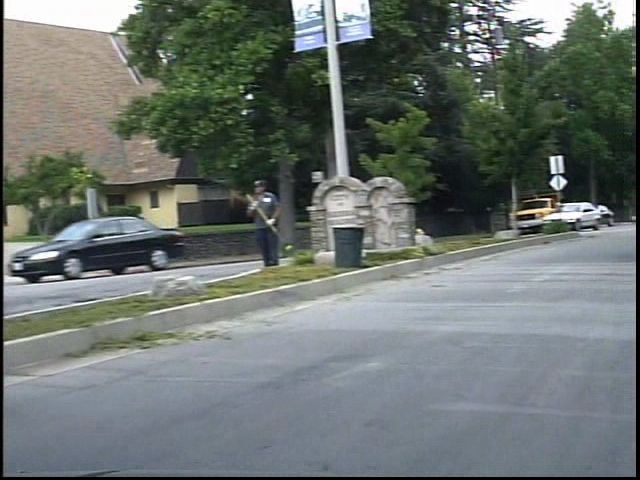person: (257, 176, 297, 270)
